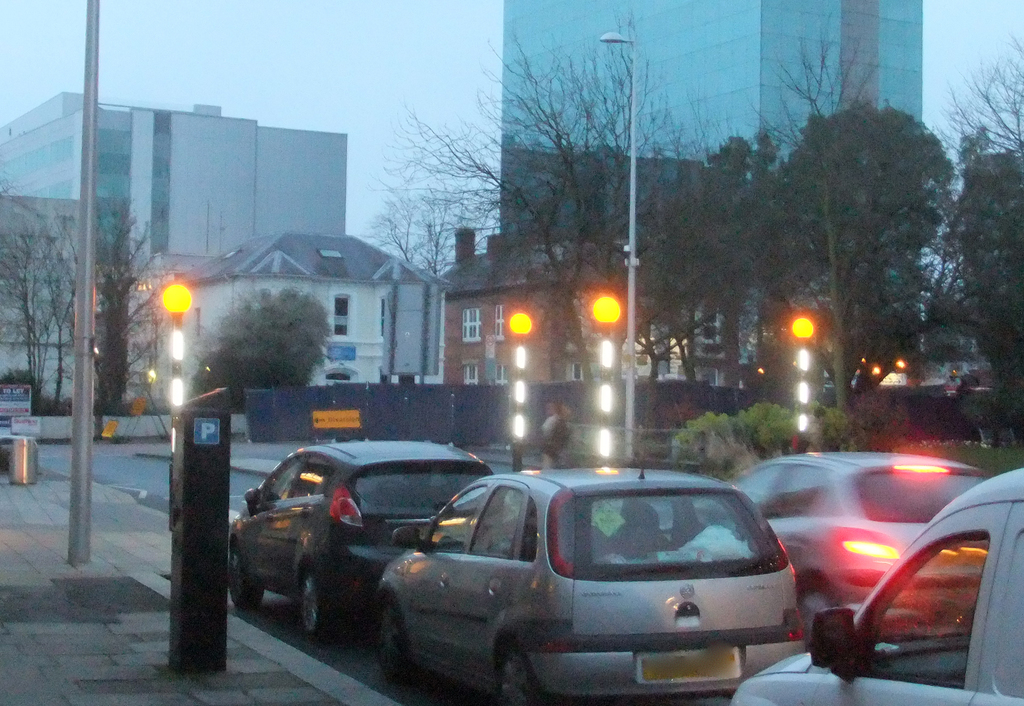Car: (369, 464, 808, 705), (731, 465, 1023, 705), (227, 432, 497, 641), (731, 442, 990, 641)
